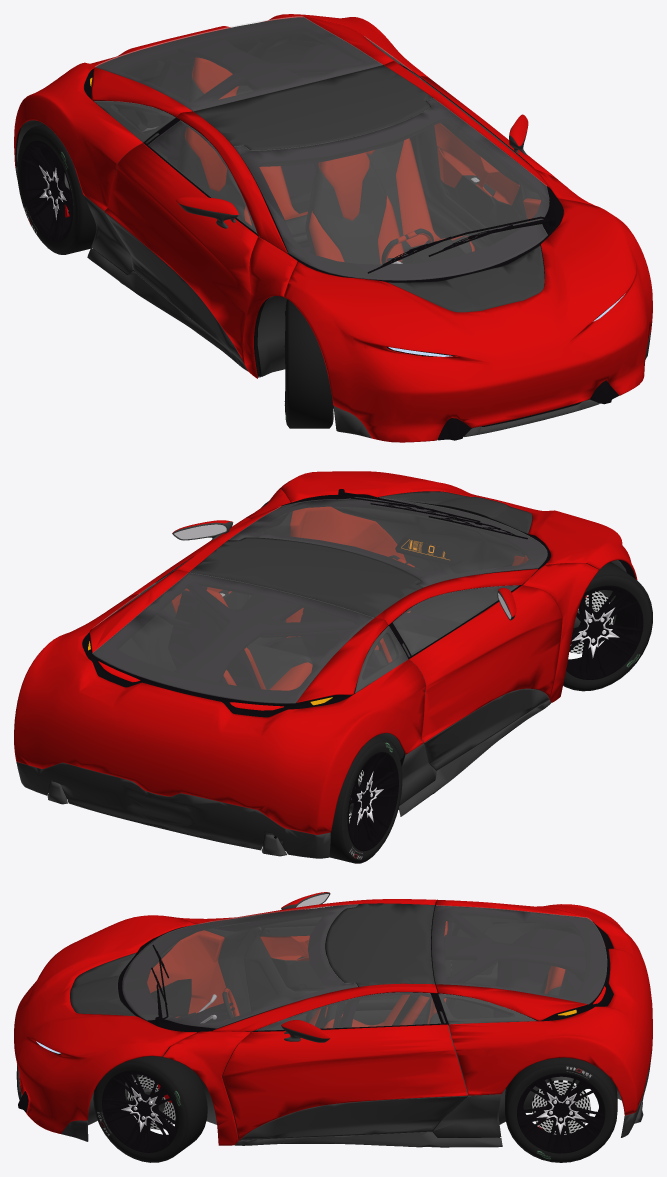
File: car_hi.glb
3 views of the same model, one above another, from view 1: azimuth 30°, elevation 25°; view 2: azimuth 150°, elevation 25°; view 3: azimuth 270°, elevation 25° (orthographic). The views are drawn at different scales.
Parts seen in each view (by area): view 1: BodyHood, BodyWindshield, BodyRearwindow, BodyDoorRColor1, BodyRearPanelsColor1, BodyRoofPanel, BodyWindshieldGasket, InteriorSeatsColor1, InteriorSeatsColor2, BodyPillars, InteriorPillar, InteriorRearHatch (+21 smaller); view 2: BodyRearPanelsColor1, BodyRearwindow, BodyWindshield, BodyPanelsColor2, BodyDoorRColor1, BodyRoofPanel, BodyHood, InteriorRearHatch, BodyPillars, InteriorPillar, InteriorDashMid, BodyWindshieldGasket (+21 smaller); view 3: BodyRearPanelsColor1, BodyWindshield, BodyDoorLColor1, BodyHood, BodyRearwindow, BodyRoofPanel, BodyPillars, BodyWindshieldGasket, BodyDoorLColor2, BodyPanelsColor2, WheelFrontL, InteriorRearHatch (+25 smaller).
Boxes of the visible parts, x1,y1,x2,y2 form: BodyHood: [283, 198, 652, 442]; BodyWindshield: [234, 98, 549, 280]; BodyRearwindow: [95, 16, 382, 110]; BodyDoorRColor1: [104, 143, 257, 363]; BodyRearPanelsColor1: [14, 14, 428, 210]; BodyRoofPanel: [193, 65, 432, 150]; BodyWindshieldGasket: [234, 99, 563, 282]; InteriorSeatsColor1: [184, 57, 475, 264]; InteriorSeatsColor2: [180, 78, 472, 264]; BodyPillars: [176, 61, 599, 378]; InteriorPillar: [158, 37, 434, 168]; InteriorRearHatch: [93, 17, 383, 117]; BodyRearPanelsColor1: [14, 569, 425, 834]; BodyRearwindow: [92, 573, 373, 703]; BodyWindshield: [229, 497, 547, 587]; BodyPanelsColor2: [16, 700, 550, 858]; BodyDoorRColor1: [409, 585, 562, 742]; BodyRoofPanel: [189, 537, 422, 617]; BodyHood: [278, 471, 637, 579]; InteriorRearHatch: [93, 573, 385, 707]; BodyPillars: [174, 489, 598, 702]; InteriorPillar: [174, 574, 417, 682]; InteriorDashMid: [331, 503, 528, 623]; BodyWindshieldGasket: [230, 497, 550, 587]; BodyRearPanelsColor1: [436, 899, 652, 1115]; BodyWindshield: [122, 904, 357, 1028]; BodyDoorLColor1: [222, 1024, 467, 1140]; BodyHood: [14, 915, 196, 1133]; BodyRearwindow: [432, 905, 606, 1003]; BodyRoofPanel: [326, 903, 434, 986]; BodyPillars: [163, 899, 437, 1145]; BodyWindshieldGasket: [118, 905, 357, 1032]; BodyDoorLColor2: [240, 1096, 467, 1140]; BodyPanelsColor2: [16, 1050, 652, 1147]; WheelFrontL: [93, 1054, 207, 1162]; InteriorRearHatch: [431, 905, 606, 1020].
Size of the model in its own units: 2.54 by 1.15 by 4.36.
Materials: 22 (5 with a texture image).
